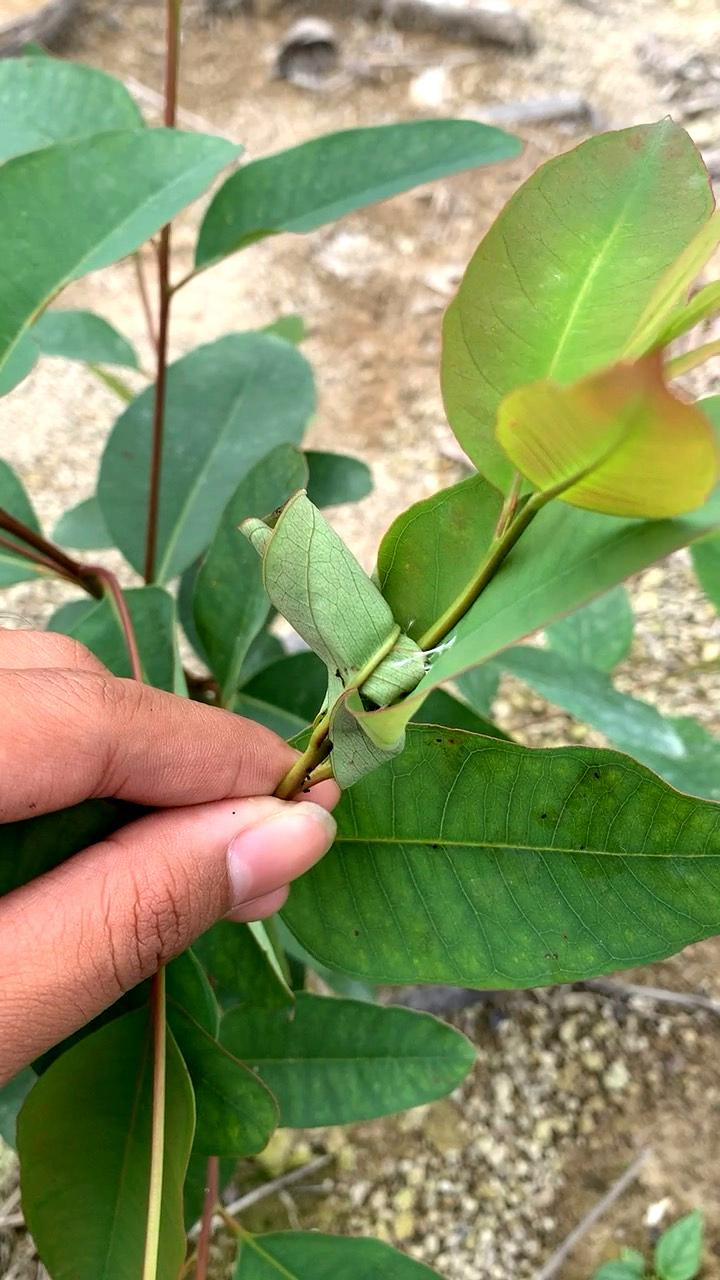Leaf Roller - Leaf: (213, 476, 437, 764)
